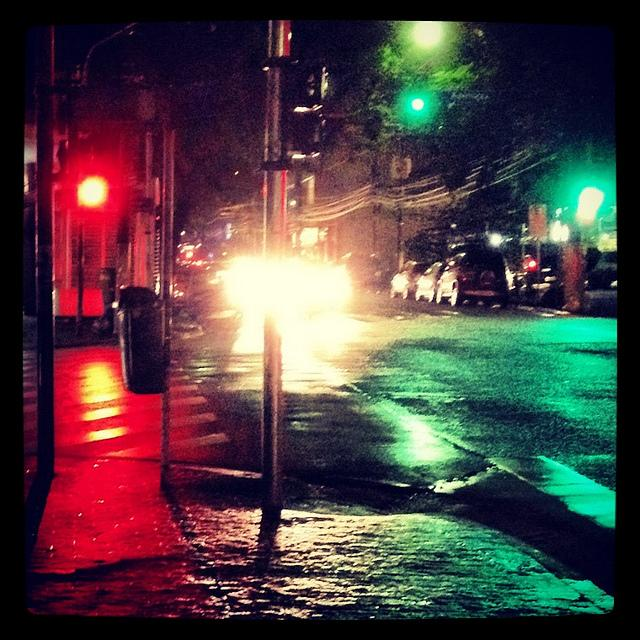Vehicle: (436, 251, 510, 310), (389, 260, 432, 301), (416, 260, 448, 302)
